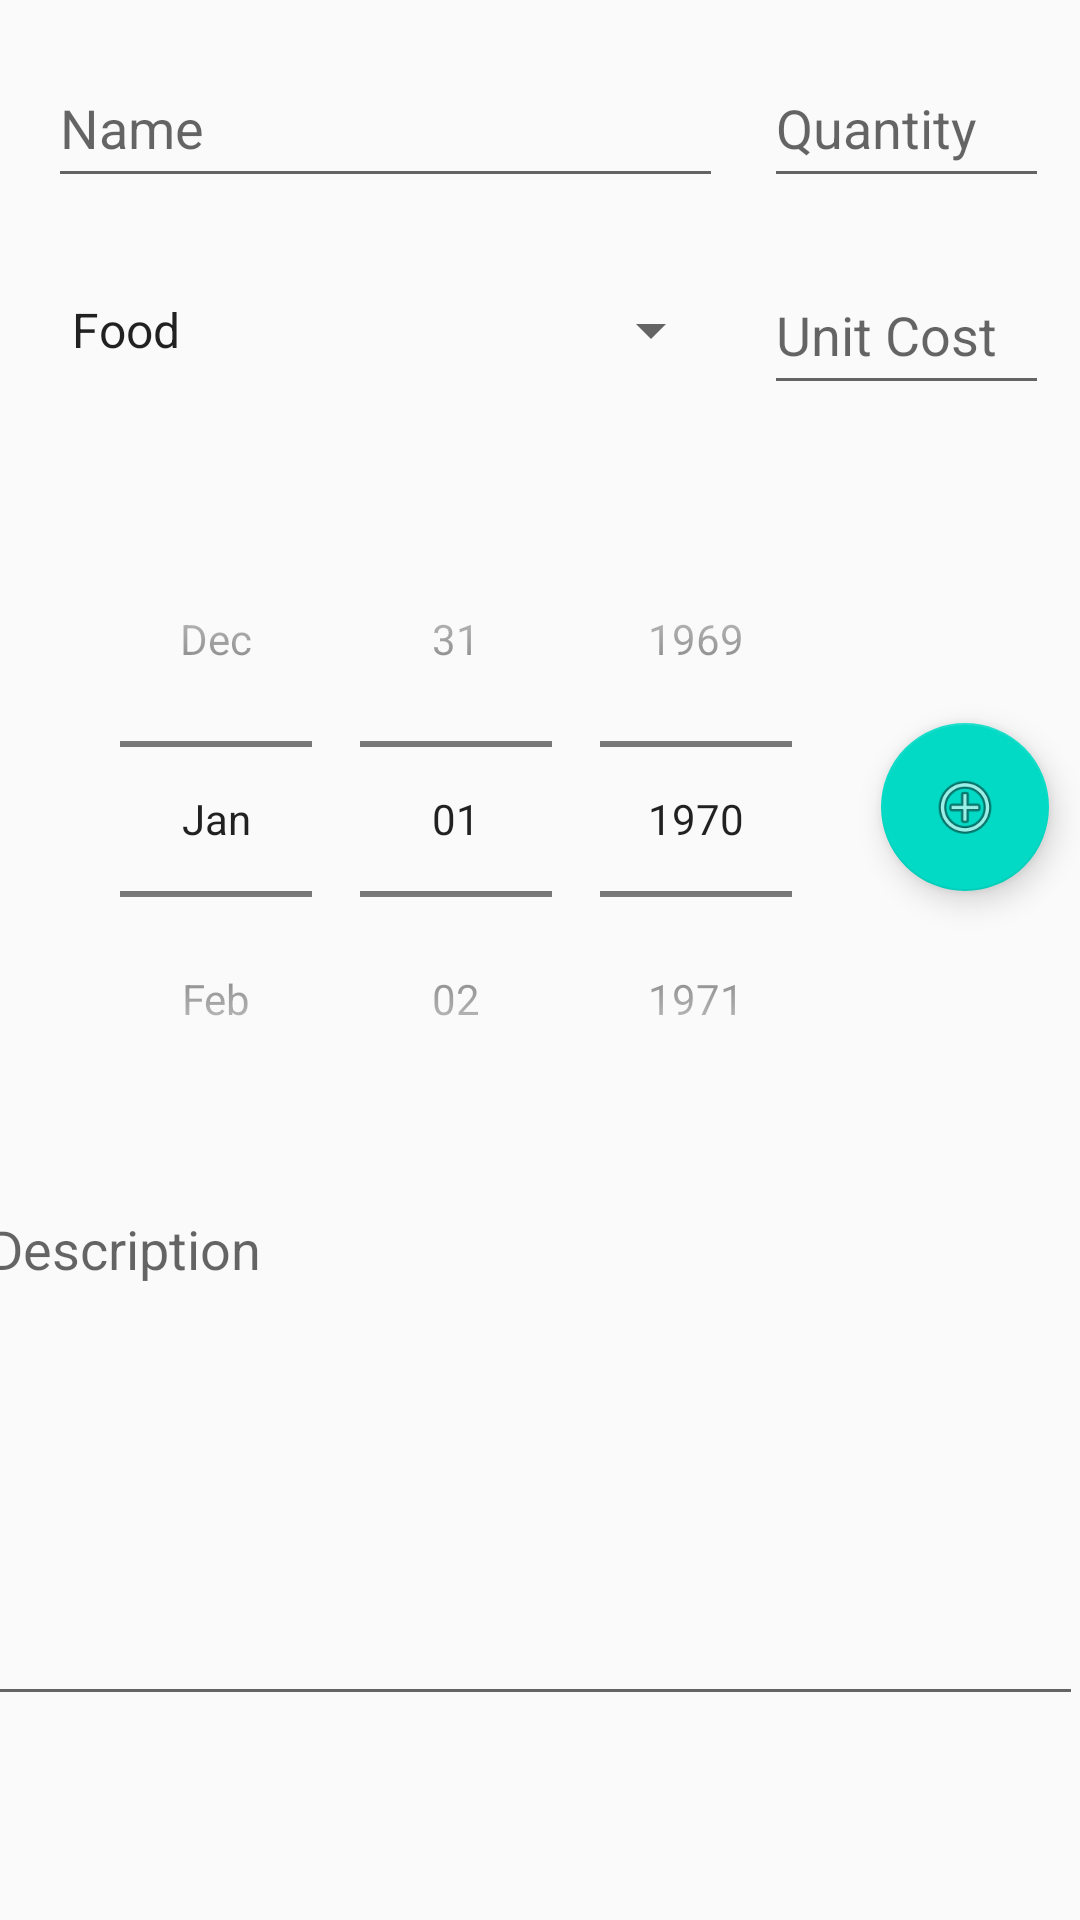

Icon click points for this 1080×1920 phone screenshot, format [x,y]:
add: [965,807]
